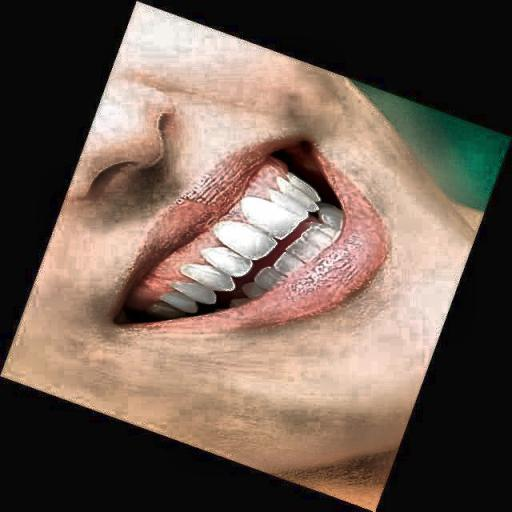Healthy: (112, 66, 434, 402)
